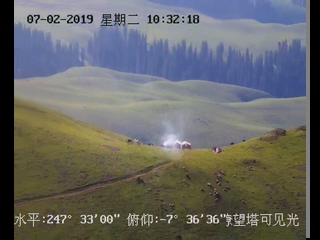smoke: (161, 118, 185, 150)
